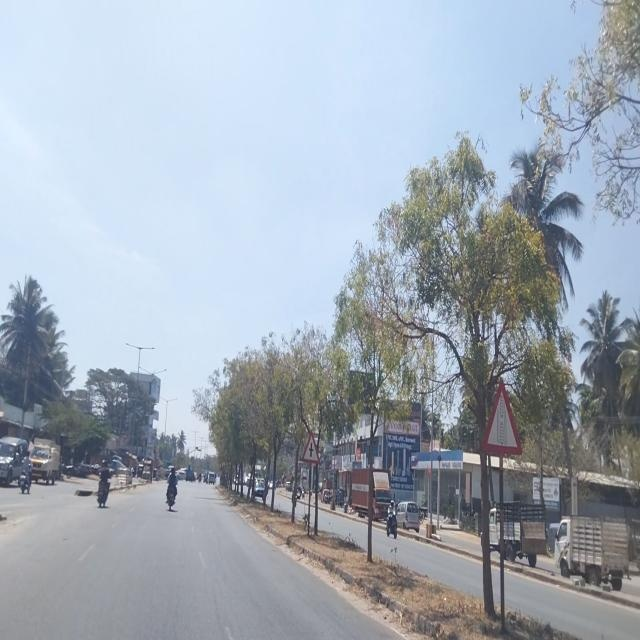bien_nguy_hiem: (480, 374, 524, 456), (301, 428, 321, 464)
